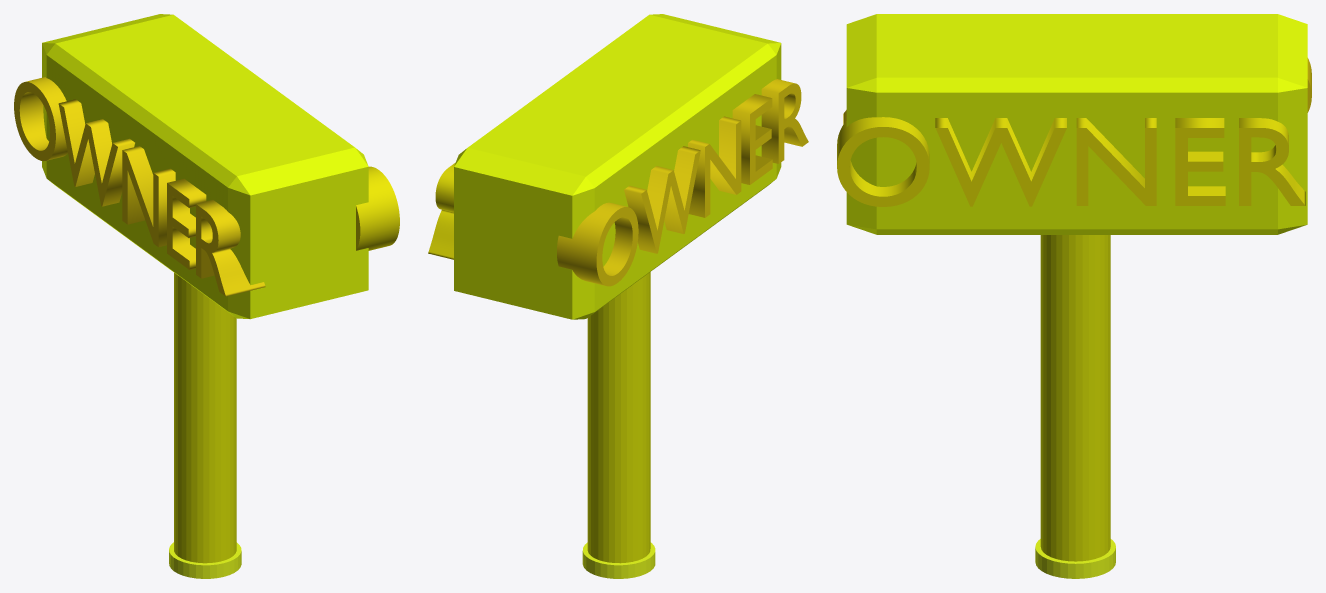
The model's file is OwnerHammer.fbx.
3 views of the same model, side by side, from view 1: azimuth 30°, elevation 25°; view 2: azimuth 150°, elevation 25°; view 3: azimuth 270°, elevation 25° (orthographic). The views are drawn at different scales.
Visible parts, largest first — view 1: Cube, Text.001, Cylinder, Text, Cylinder.001; view 2: Cube, Text.001, Cylinder, Text, Cylinder.001; view 3: Cube, Cylinder, Text, Cylinder.001.
Boxes of the visible parts, box(x1,y1,x2,y2) form: Cube: box(42, 14, 368, 319); Text.001: box(14, 77, 265, 296); Cylinder: box(174, 273, 236, 563); Text: box(356, 166, 399, 250); Cylinder.001: box(169, 542, 241, 578); Cube: box(454, 14, 781, 319); Text.001: box(557, 79, 808, 286); Cylinder: box(587, 272, 650, 563); Text: box(428, 162, 455, 259); Cylinder.001: box(582, 542, 655, 578); Cube: box(846, 14, 1307, 234); Cylinder: box(1040, 235, 1110, 561); Text: box(837, 117, 1305, 206); Cylinder.001: box(1035, 539, 1115, 578).
Size of the model in its own units: 53 by 138 by 115.
